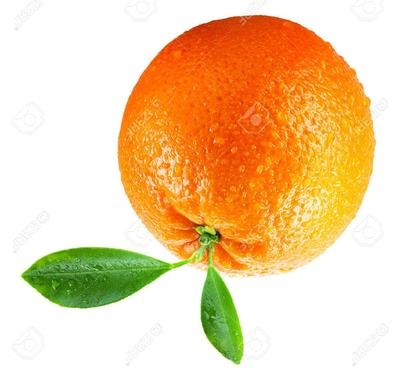orange: (0, 0, 400, 376)
